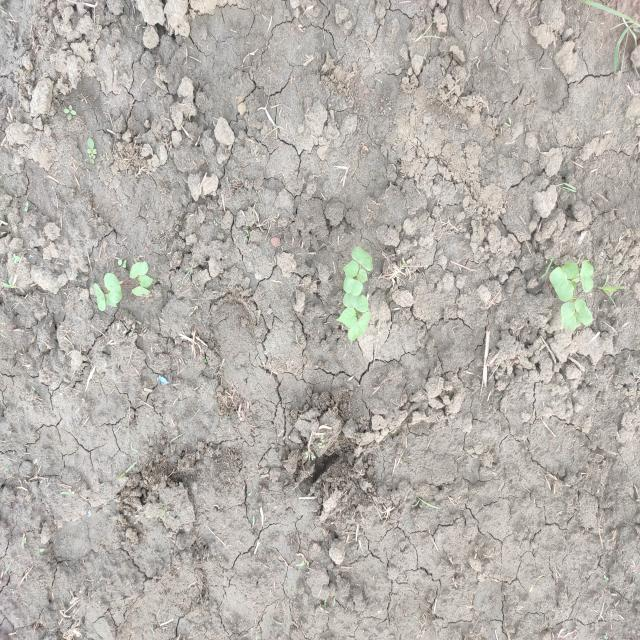seedling_s4: (549, 266, 574, 302), (348, 312, 371, 341), (104, 273, 122, 304), (351, 246, 373, 271), (575, 299, 593, 326), (343, 293, 368, 312), (561, 302, 577, 331), (580, 260, 594, 293), (336, 307, 357, 328), (343, 277, 363, 296), (129, 261, 149, 279), (94, 283, 106, 311), (562, 262, 579, 279), (343, 260, 359, 278), (139, 274, 153, 288), (132, 286, 150, 296), (105, 293, 117, 307), (357, 268, 368, 283)
